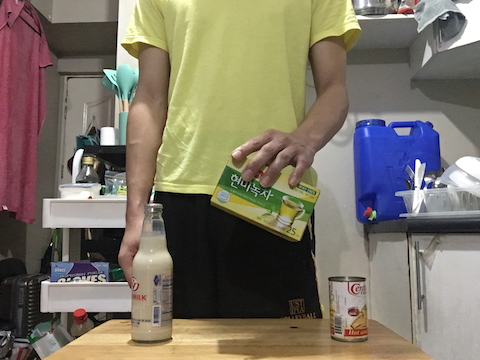bottle: (127, 201, 181, 346)
box: (209, 154, 323, 247)
can: (326, 272, 376, 345)
grab: (231, 125, 312, 190)
